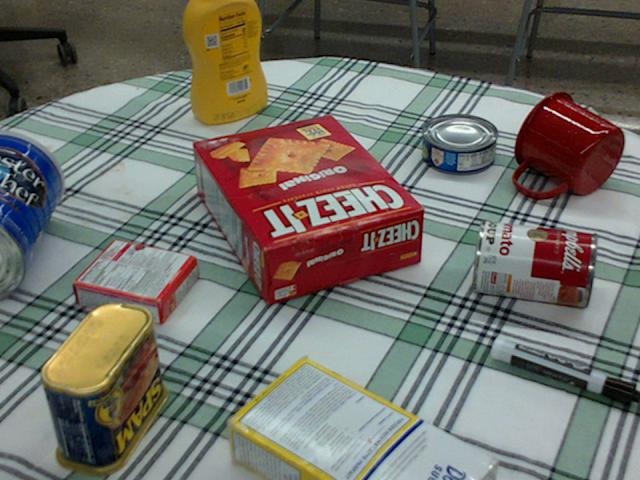cracker_box: (192, 113, 420, 302)
gelatin_box: (73, 237, 197, 324)
large_marker: (492, 336, 639, 408)
master_chef_can: (0, 130, 61, 299)
mug: (513, 91, 622, 198)
mustard_bottle: (183, 0, 266, 123)
potted_meat_can: (39, 300, 166, 473)
sugar_box: (220, 360, 496, 479)
tomato_soup_can: (471, 219, 596, 307)
tuna_fish_can: (422, 114, 498, 174)
